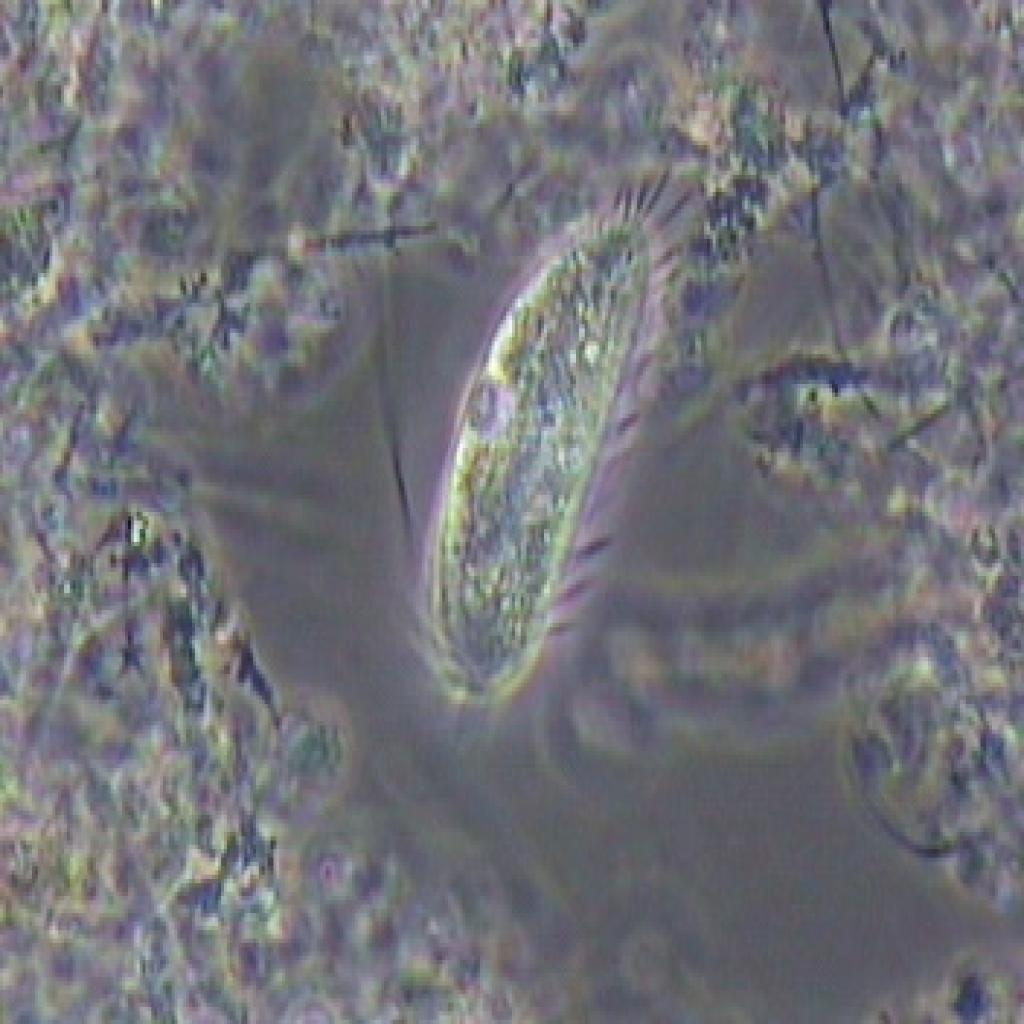Stylonychia: (406, 147, 708, 736)
